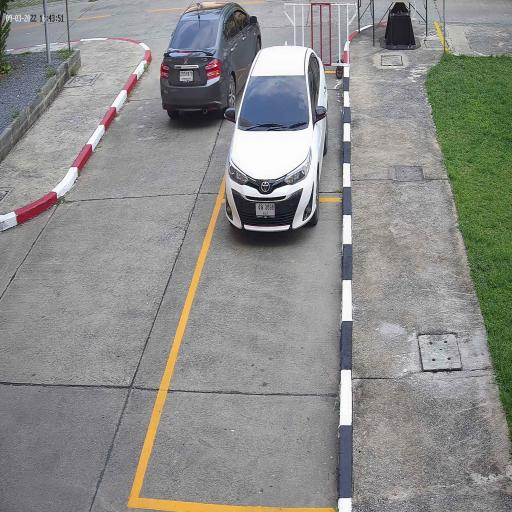car: (224, 44, 329, 234), (158, 0, 264, 119)
